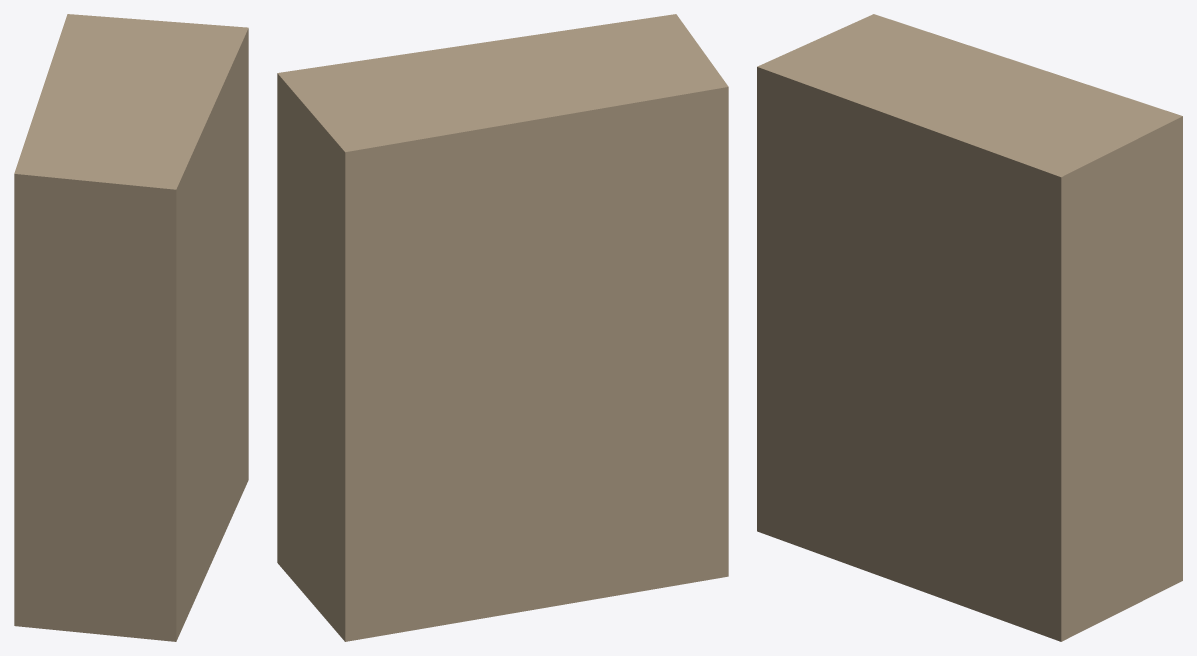
File: bld_101353650.dae
3 views of the same model, side by side, from view 1: azimuth 30°, elevation 25°; view 2: azimuth 150°, elevation 25°; view 3: azimuth 270°, elevation 25° (orthographic). The views are drawn at different scales.
Parts seen in each view (by area): view 1: bld_101353650; view 2: bld_101353650; view 3: bld_101353650.
Part boxes in pixels (<box>): bld_101353650: <box>14,14,248,641</box>; bld_101353650: <box>277,14,728,641</box>; bld_101353650: <box>757,14,1182,641</box>.
Size of the model in its own units: 6.03 by 6.65 by 8.
